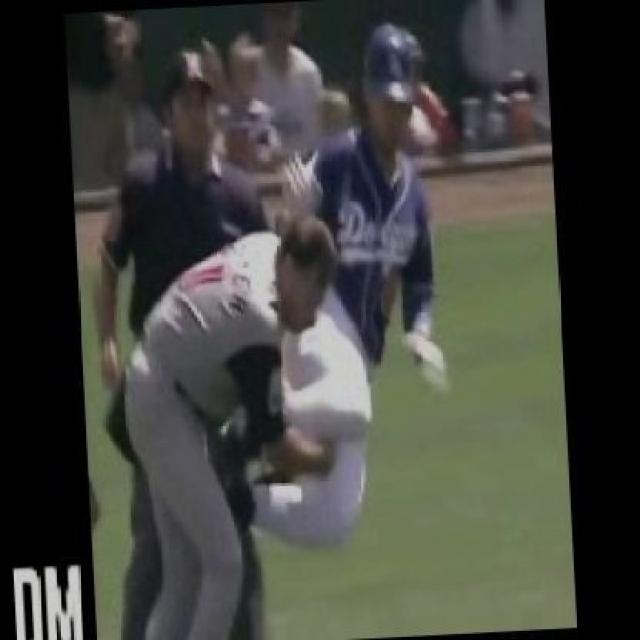fight: (104, 28, 454, 638)
non-fight: (89, 47, 273, 640)
